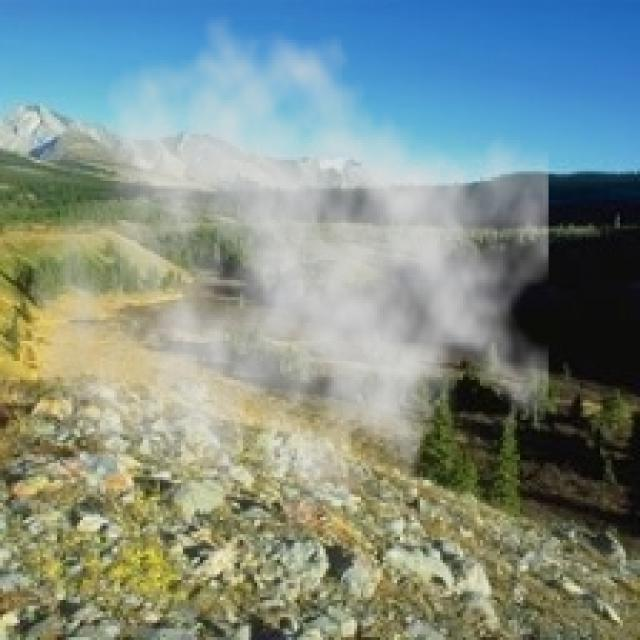smoke: (26, 11, 548, 566)
